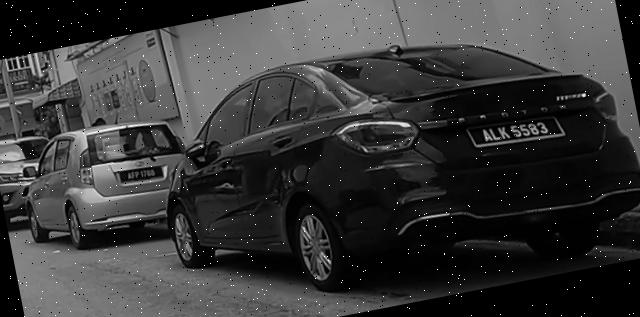License_Plate: (473, 114, 563, 151), (123, 167, 162, 183)
car: (142, 1, 640, 317), (13, 110, 204, 259)
